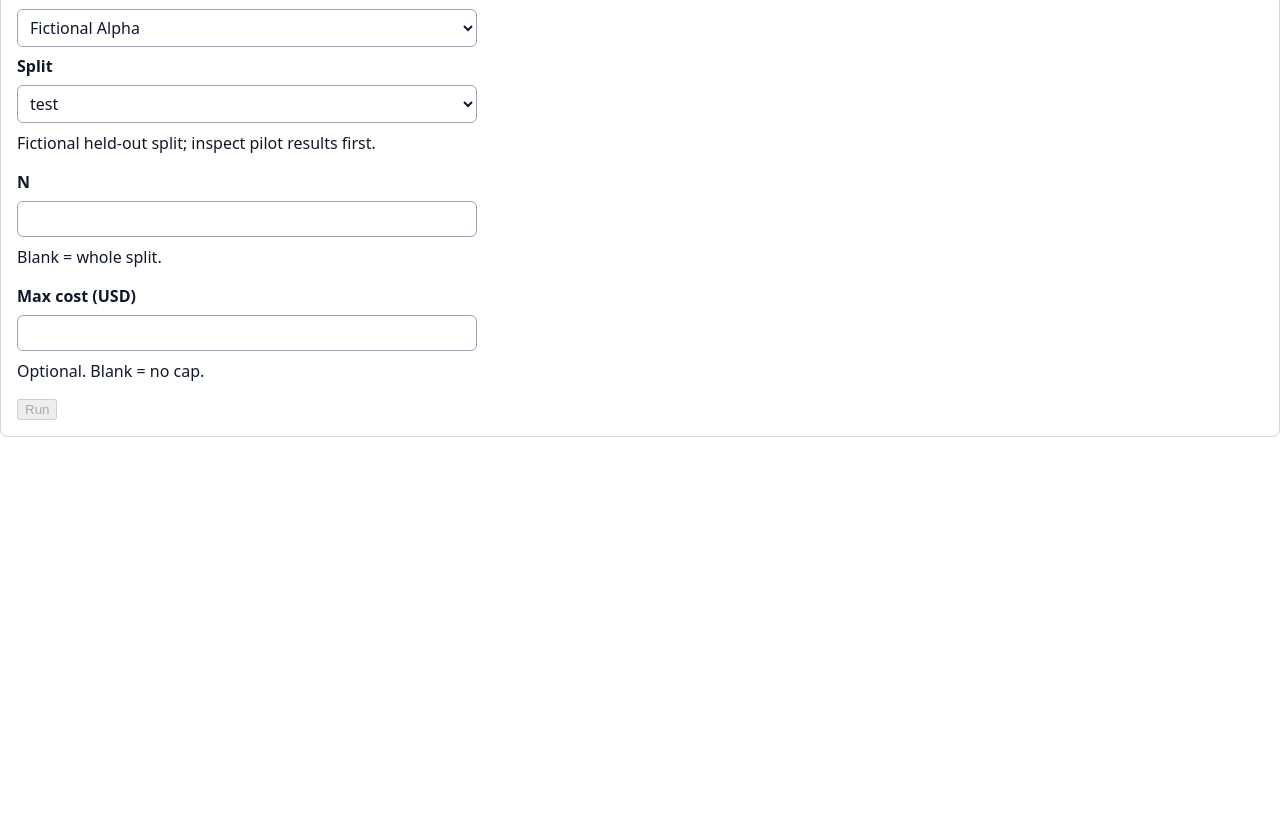
Test case: RunPanel request lifetime › does not clamp when a split size is unknown
This screenshot has width=1280, height=826.
Type "100" into the field labelled "N" at (247,219), box x1=17 y1=201 x2=477 y2=237
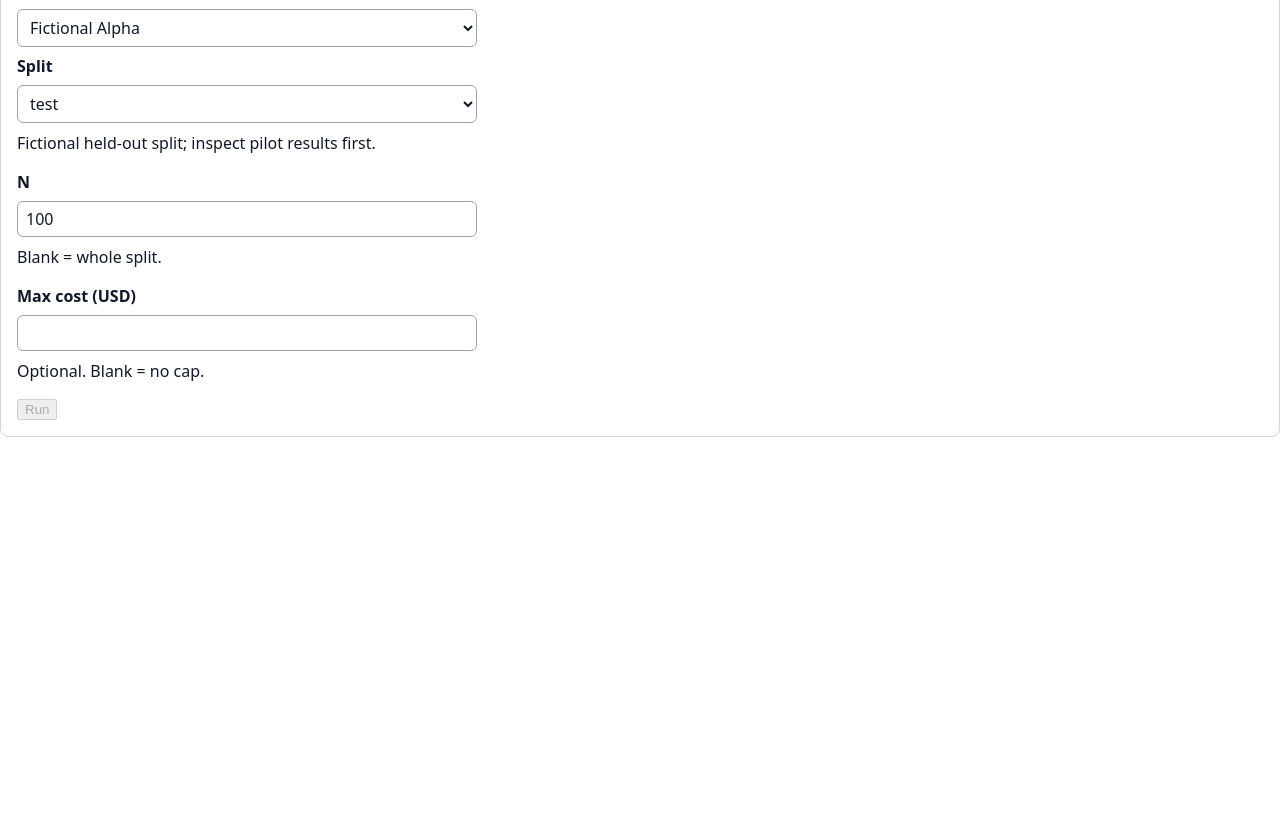
Leave the field labelled "N", box x1=17 y1=201 x2=477 y2=237
Wait 400 ms
(page scrolled)
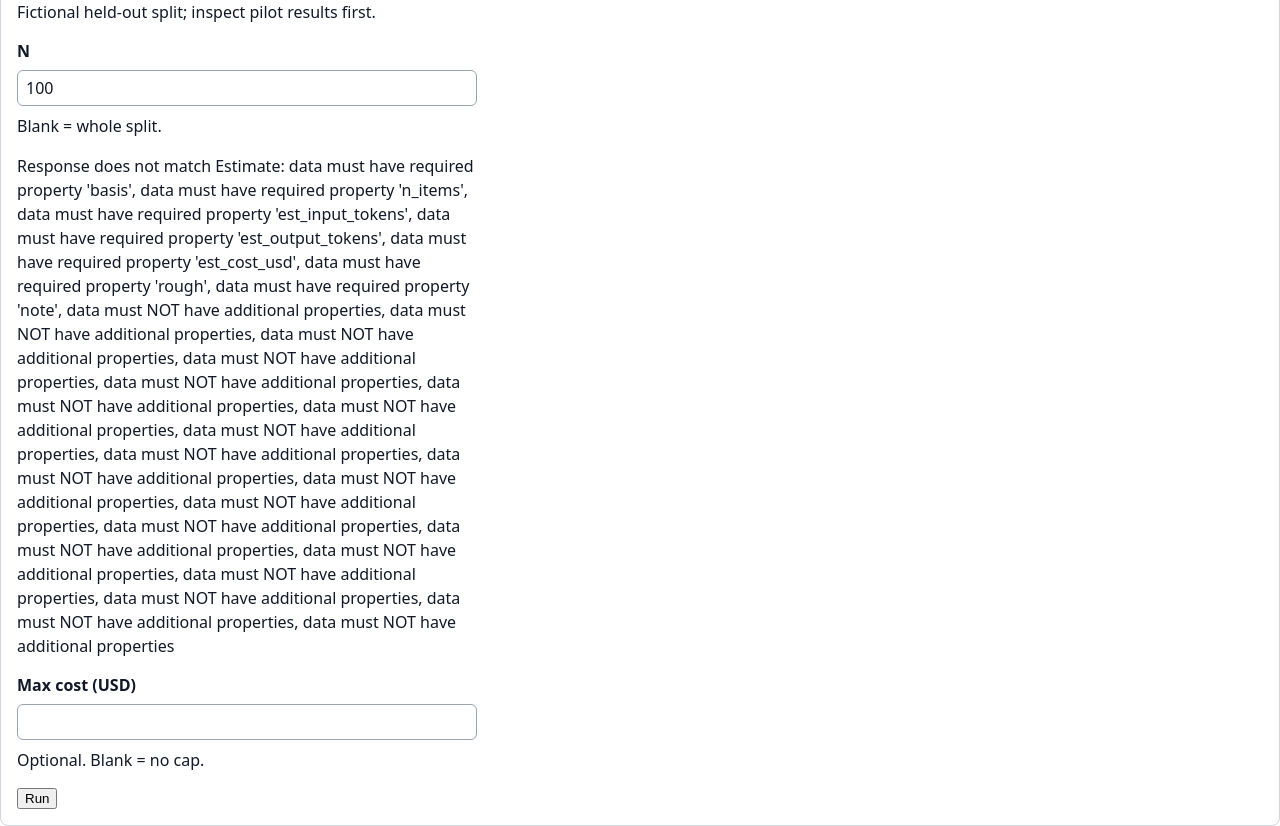
Check: the button "Run" is enabled, box x1=17 y1=788 x2=58 y2=809
